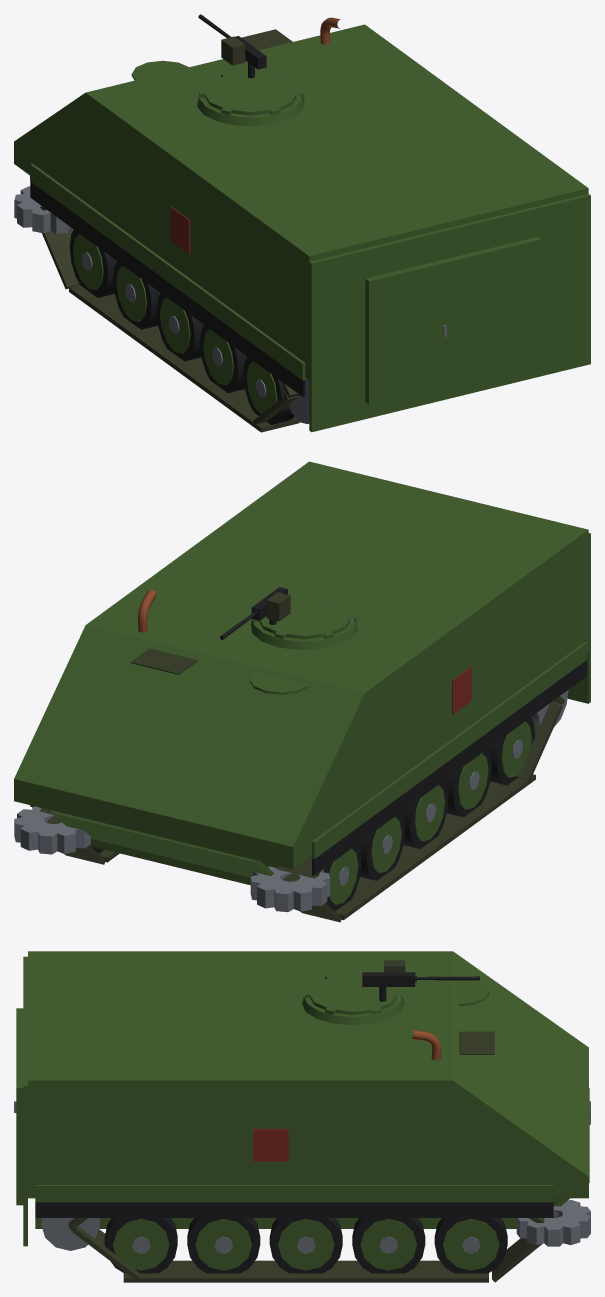
The model's file is m113-armored-personnel-carrier.glb.
3 views of the same model, one above another, from view 1: azimuth 30°, elevation 25°; view 2: azimuth 150°, elevation 25°; view 3: azimuth 270°, elevation 25° (orthographic). The views are drawn at different scales.
Parts seen in each view (by area): view 1: Mesh_UpperHull, Mesh_RearWall, Mesh_RampMesh, Mesh_SkirtMetal_-1, Mesh_SkirtRubber_-1, Mesh_TrackBot_L, Mesh_CupolaHatchMesh, Mesh_CupolaBase, Mesh_MasterSprocket, Mesh_TrackFrontBot_L, Mesh_WheelHub_S0_W4, Mesh_WheelHub_S0_W3 (+13 smaller); view 2: Mesh_UpperHull, Mesh_SkirtMetal_-1, Mesh_SkirtRubber_-1, Mesh_LowerNosePlate, Mesh_TrackBot_L, Mesh_MasterSprocket, Mesh_CupolaHatchMesh, Mesh_Sprocket_R, Mesh_LowerHull, Mesh_CupolaBase, Mesh_TrackRearBot_L, Mesh_WheelHub_S0_W3 (+13 smaller); view 3: Mesh_UpperHull, Mesh_SkirtMetal_1, Mesh_SkirtRubber_1, Mesh_TrackBot_R, Mesh_CupolaHatchMesh, Mesh_Sprocket_R, Mesh_WheelHub_S1_W1, Mesh_WheelHub_S1_W4, Mesh_WheelHub_S1_W2, Mesh_WheelHub_S1_W3, Mesh_WheelHub_S1_W0, Mesh_RampMesh (+15 smaller).
Boxes of the visible parts, x1=… form: Mesh_UpperHull: x1=14, y1=24, x2=588, y2=379; Mesh_RearWall: x1=309, y1=194, x2=590, y2=432; Mesh_RampMesh: x1=365, y1=237, x2=540, y2=404; Mesh_SkirtMetal_-1: x1=30, y1=163, x2=305, y2=380; Mesh_SkirtRubber_-1: x1=30, y1=181, x2=305, y2=397; Mesh_TrackBot_L: x1=69, y1=284, x2=299, y2=432; Mesh_CupolaHatchMesh: x1=205, y1=72, x2=296, y2=115; Mesh_CupolaBase: x1=197, y1=78, x2=304, y2=126; Mesh_MasterSprocket: x1=14, y1=186, x2=73, y2=233; Mesh_TrackFrontBot_L: x1=42, y1=229, x2=79, y2=289; Mesh_WheelHub_S0_W4: x1=73, y1=233, x2=103, y2=290; Mesh_WheelHub_S0_W3: x1=116, y1=265, x2=146, y2=321; Mesh_UpperHull: x1=14, y1=461, x2=588, y2=869; Mesh_SkirtMetal_-1: x1=311, y1=642, x2=587, y2=858; Mesh_SkirtRubber_-1: x1=312, y1=660, x2=586, y2=875; Mesh_LowerNosePlate: x1=51, y1=810, x2=273, y2=877; Mesh_TrackBot_L: x1=335, y1=774, x2=535, y2=919; Mesh_MasterSprocket: x1=250, y1=866, x2=329, y2=912; Mesh_CupolaHatchMesh: x1=258, y1=596, x2=351, y2=639; Mesh_Sprocket_R: x1=14, y1=806, x2=90, y2=854; Mesh_LowerHull: x1=89, y1=839, x2=280, y2=885; Mesh_CupolaBase: x1=250, y1=605, x2=358, y2=649; Mesh_TrackRearBot_L: x1=517, y1=702, x2=562, y2=781; Mesh_WheelHub_S0_W3: x1=371, y1=816, x2=401, y2=872; Mesh_UpperHull: x1=28, y1=951, x2=588, y2=1198; Mesh_SkirtMetal_1: x1=35, y1=1185, x2=553, y2=1202; Mesh_SkirtRubber_1: x1=35, y1=1202, x2=553, y2=1217; Mesh_TrackBot_R: x1=123, y1=1260, x2=488, y2=1282; Mesh_CupolaHatchMesh: x1=309, y1=974, x2=397, y2=1014; Mesh_Sprocket_R: x1=516, y1=1199, x2=590, y2=1246; Mesh_WheelHub_S1_W1: x1=195, y1=1219, x2=251, y2=1270; Mesh_WheelHub_S1_W4: x1=443, y1=1219, x2=499, y2=1270; Mesh_WheelHub_S1_W2: x1=278, y1=1219, x2=334, y2=1270; Mesh_WheelHub_S1_W3: x1=360, y1=1219, x2=416, y2=1270; Mesh_WheelHub_S1_W0: x1=113, y1=1219, x2=169, y2=1270; Mesh_RampMesh: x1=16, y1=1008, x2=23, y2=1205.
Size of the model in its own units: 2.83 by 2.3 by 4.9.
Materials: 2 (2 with a texture image).
